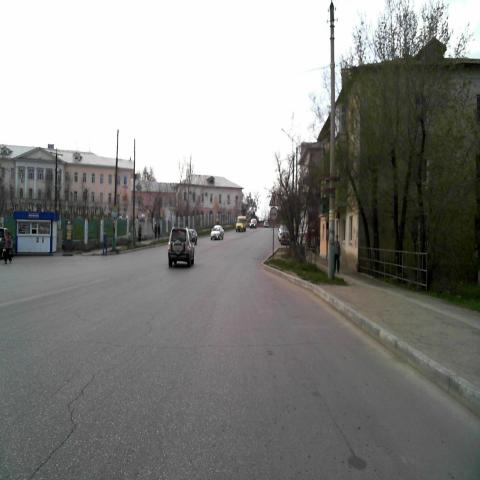1_20_3: (270, 191, 280, 206)
